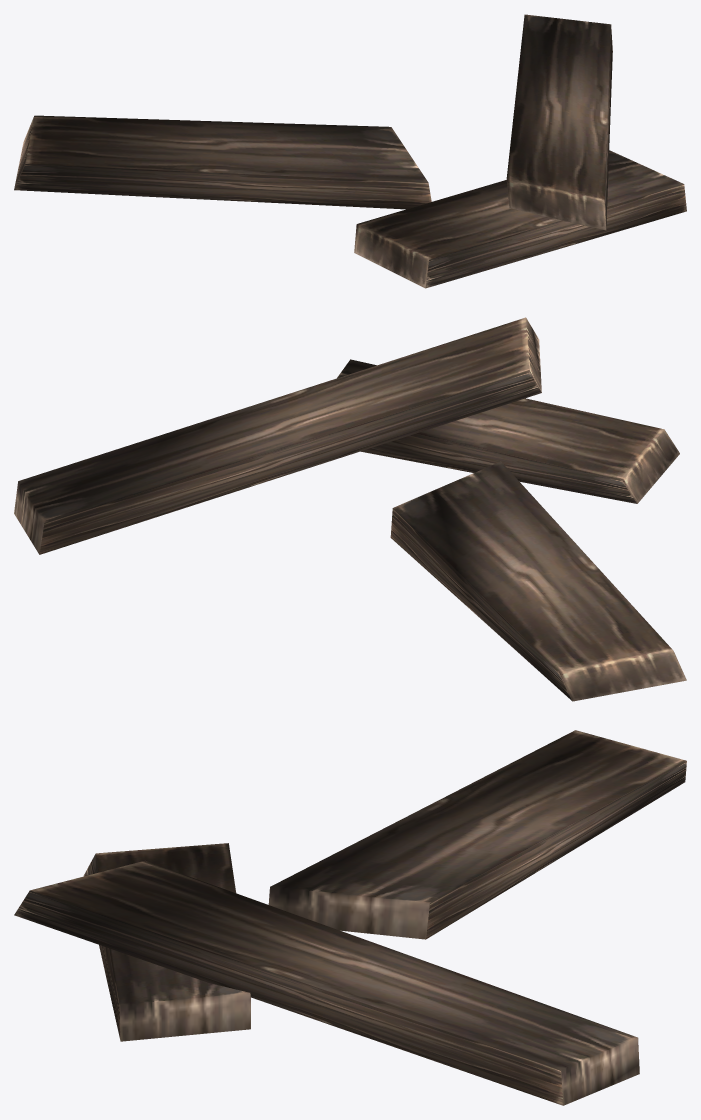
Rendered from darkironwoodplanks06.obj.
The picture shows the model from 3 angles, top to bottom: view 1: azimuth 30°, elevation 25°; view 2: azimuth 150°, elevation 25°; view 3: azimuth 270°, elevation 25°; orthographic projection. The views are drawn at different scales.
Visible parts, largest first — view 1: darkironwoodplanks06; view 2: darkironwoodplanks06; view 3: darkironwoodplanks06.
Part boxes in pixels (x1,y1,x2,y2): darkironwoodplanks06: [14, 14, 686, 288]; darkironwoodplanks06: [14, 317, 686, 701]; darkironwoodplanks06: [14, 730, 686, 1105].
Bounding box in the file's own units: 5.04 × 0.5382 × 4.08.
